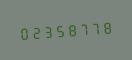eight: (65, 20, 76, 39), (101, 17, 112, 36)
five: (53, 20, 64, 40)
seven: (77, 19, 88, 38), (89, 18, 100, 37)
three: (41, 21, 52, 40)
two: (29, 22, 40, 41)
zero: (17, 23, 28, 42)
